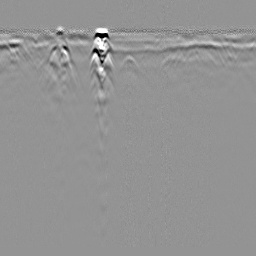cavity: (118, 52, 139, 69)
